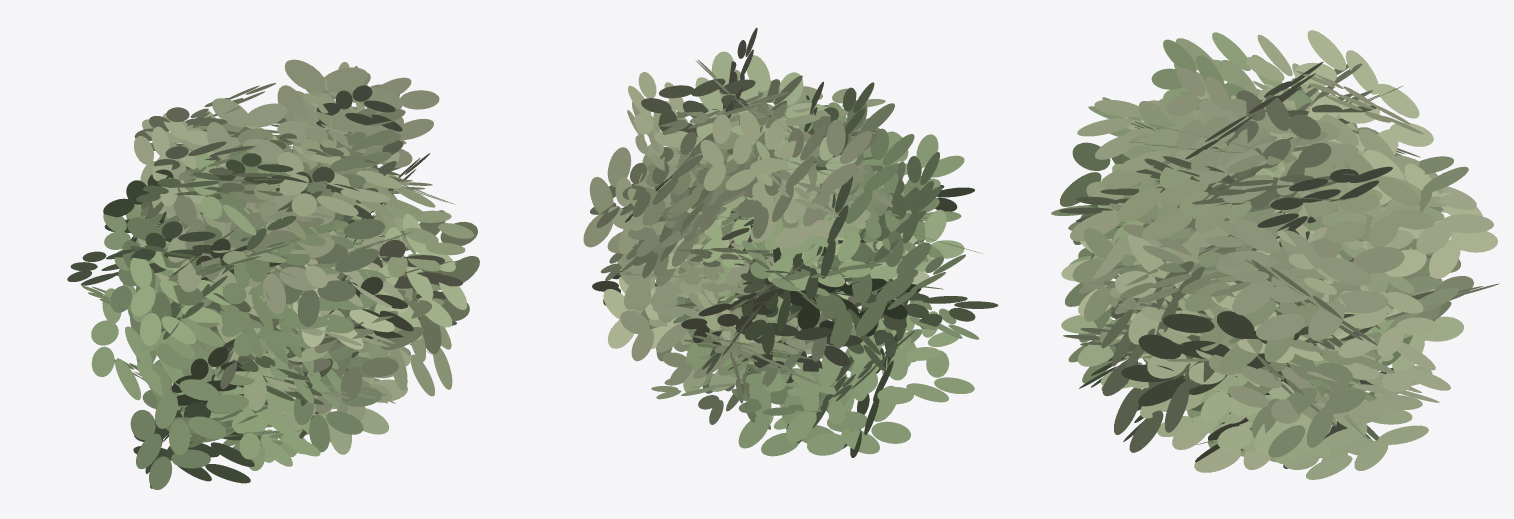
Rendered from campus-tree-6_-1-middle.glb.
3 renders of one model, left to right at view 1: azimuth 30°, elevation 25°; view 2: azimuth 150°, elevation 25°; view 3: azimuth 270°, elevation 25°, orthographic. The views are drawn at different scales.
Parts seen in each view (by area): view 1: Campus leaf canopy; view 2: Campus leaf canopy; view 3: Campus leaf canopy.
Part boxes in pixels (<box>): Campus leaf canopy: <box>67,59,479,489</box>; Campus leaf canopy: <box>583,27,998,457</box>; Campus leaf canopy: <box>1051,30,1499,479</box>.
Size of the model in its own units: 5.22 by 5.23 by 4.2.
1 material, 1 textured.
